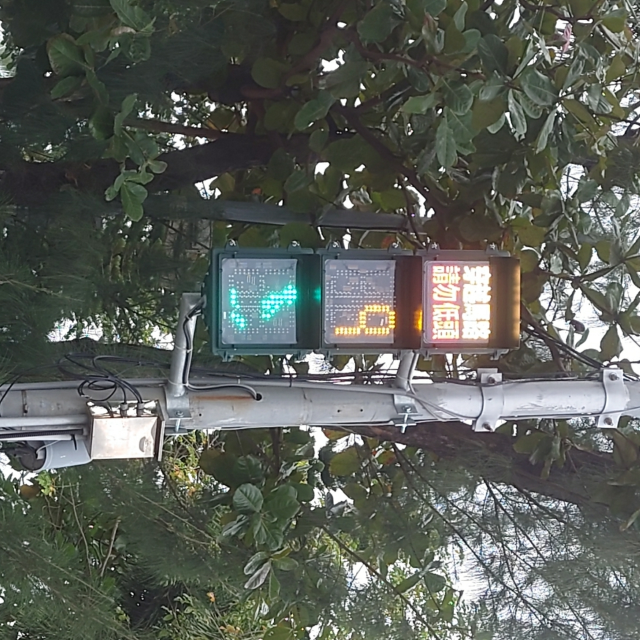green_light: (215, 249, 518, 355)
